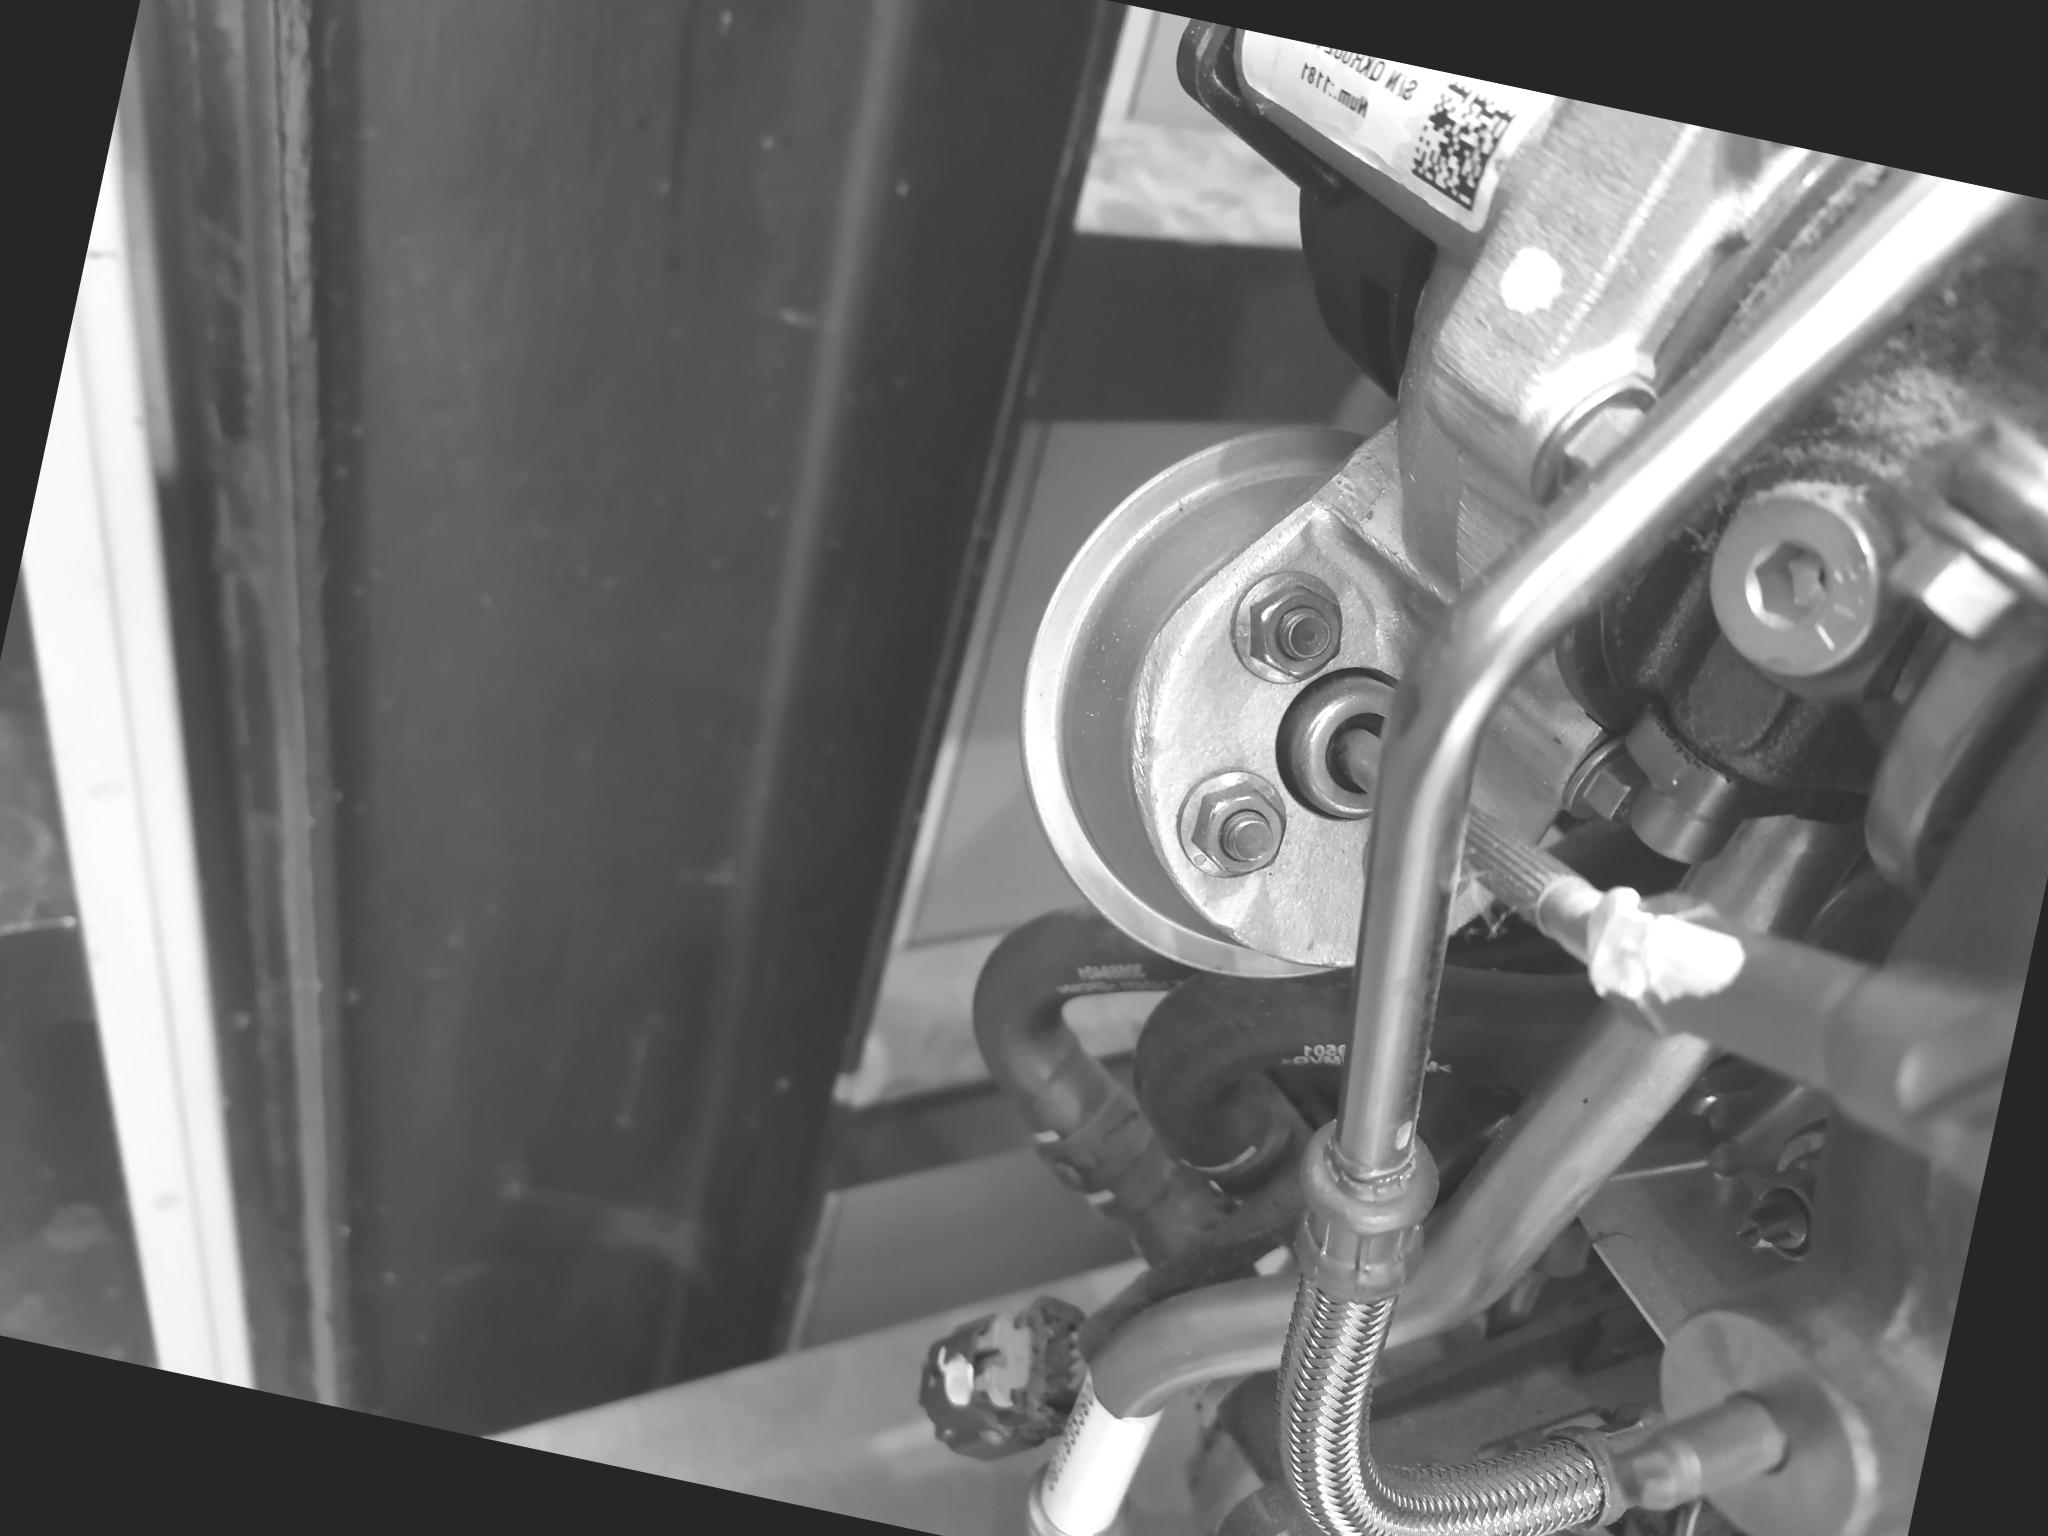screw: (1163, 752, 1306, 900), (1213, 553, 1356, 700)
